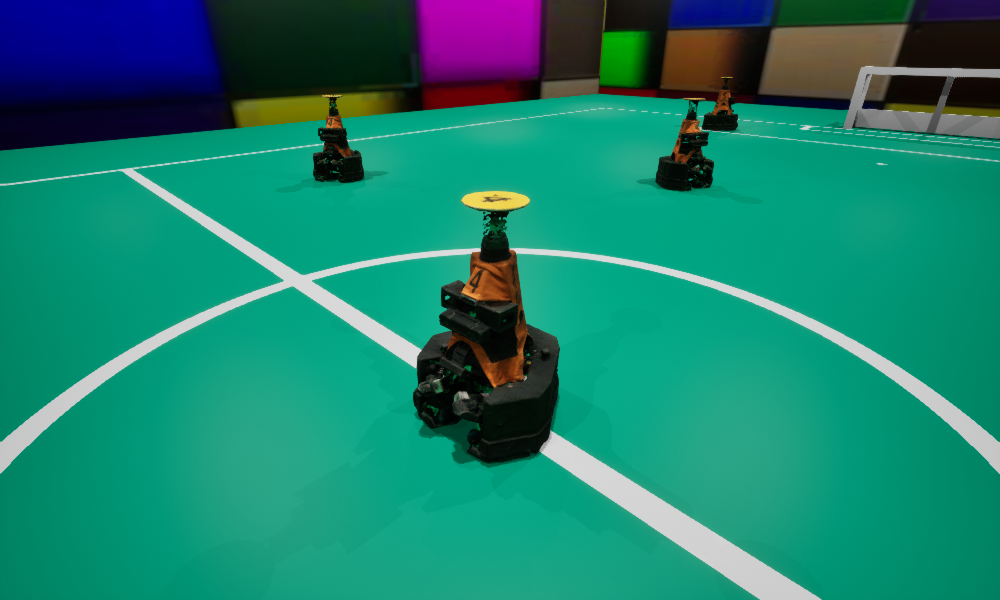0 orange robot TechUnited: (413, 191, 559, 462), (655, 98, 713, 190), (313, 95, 363, 181), (702, 77, 737, 130)
